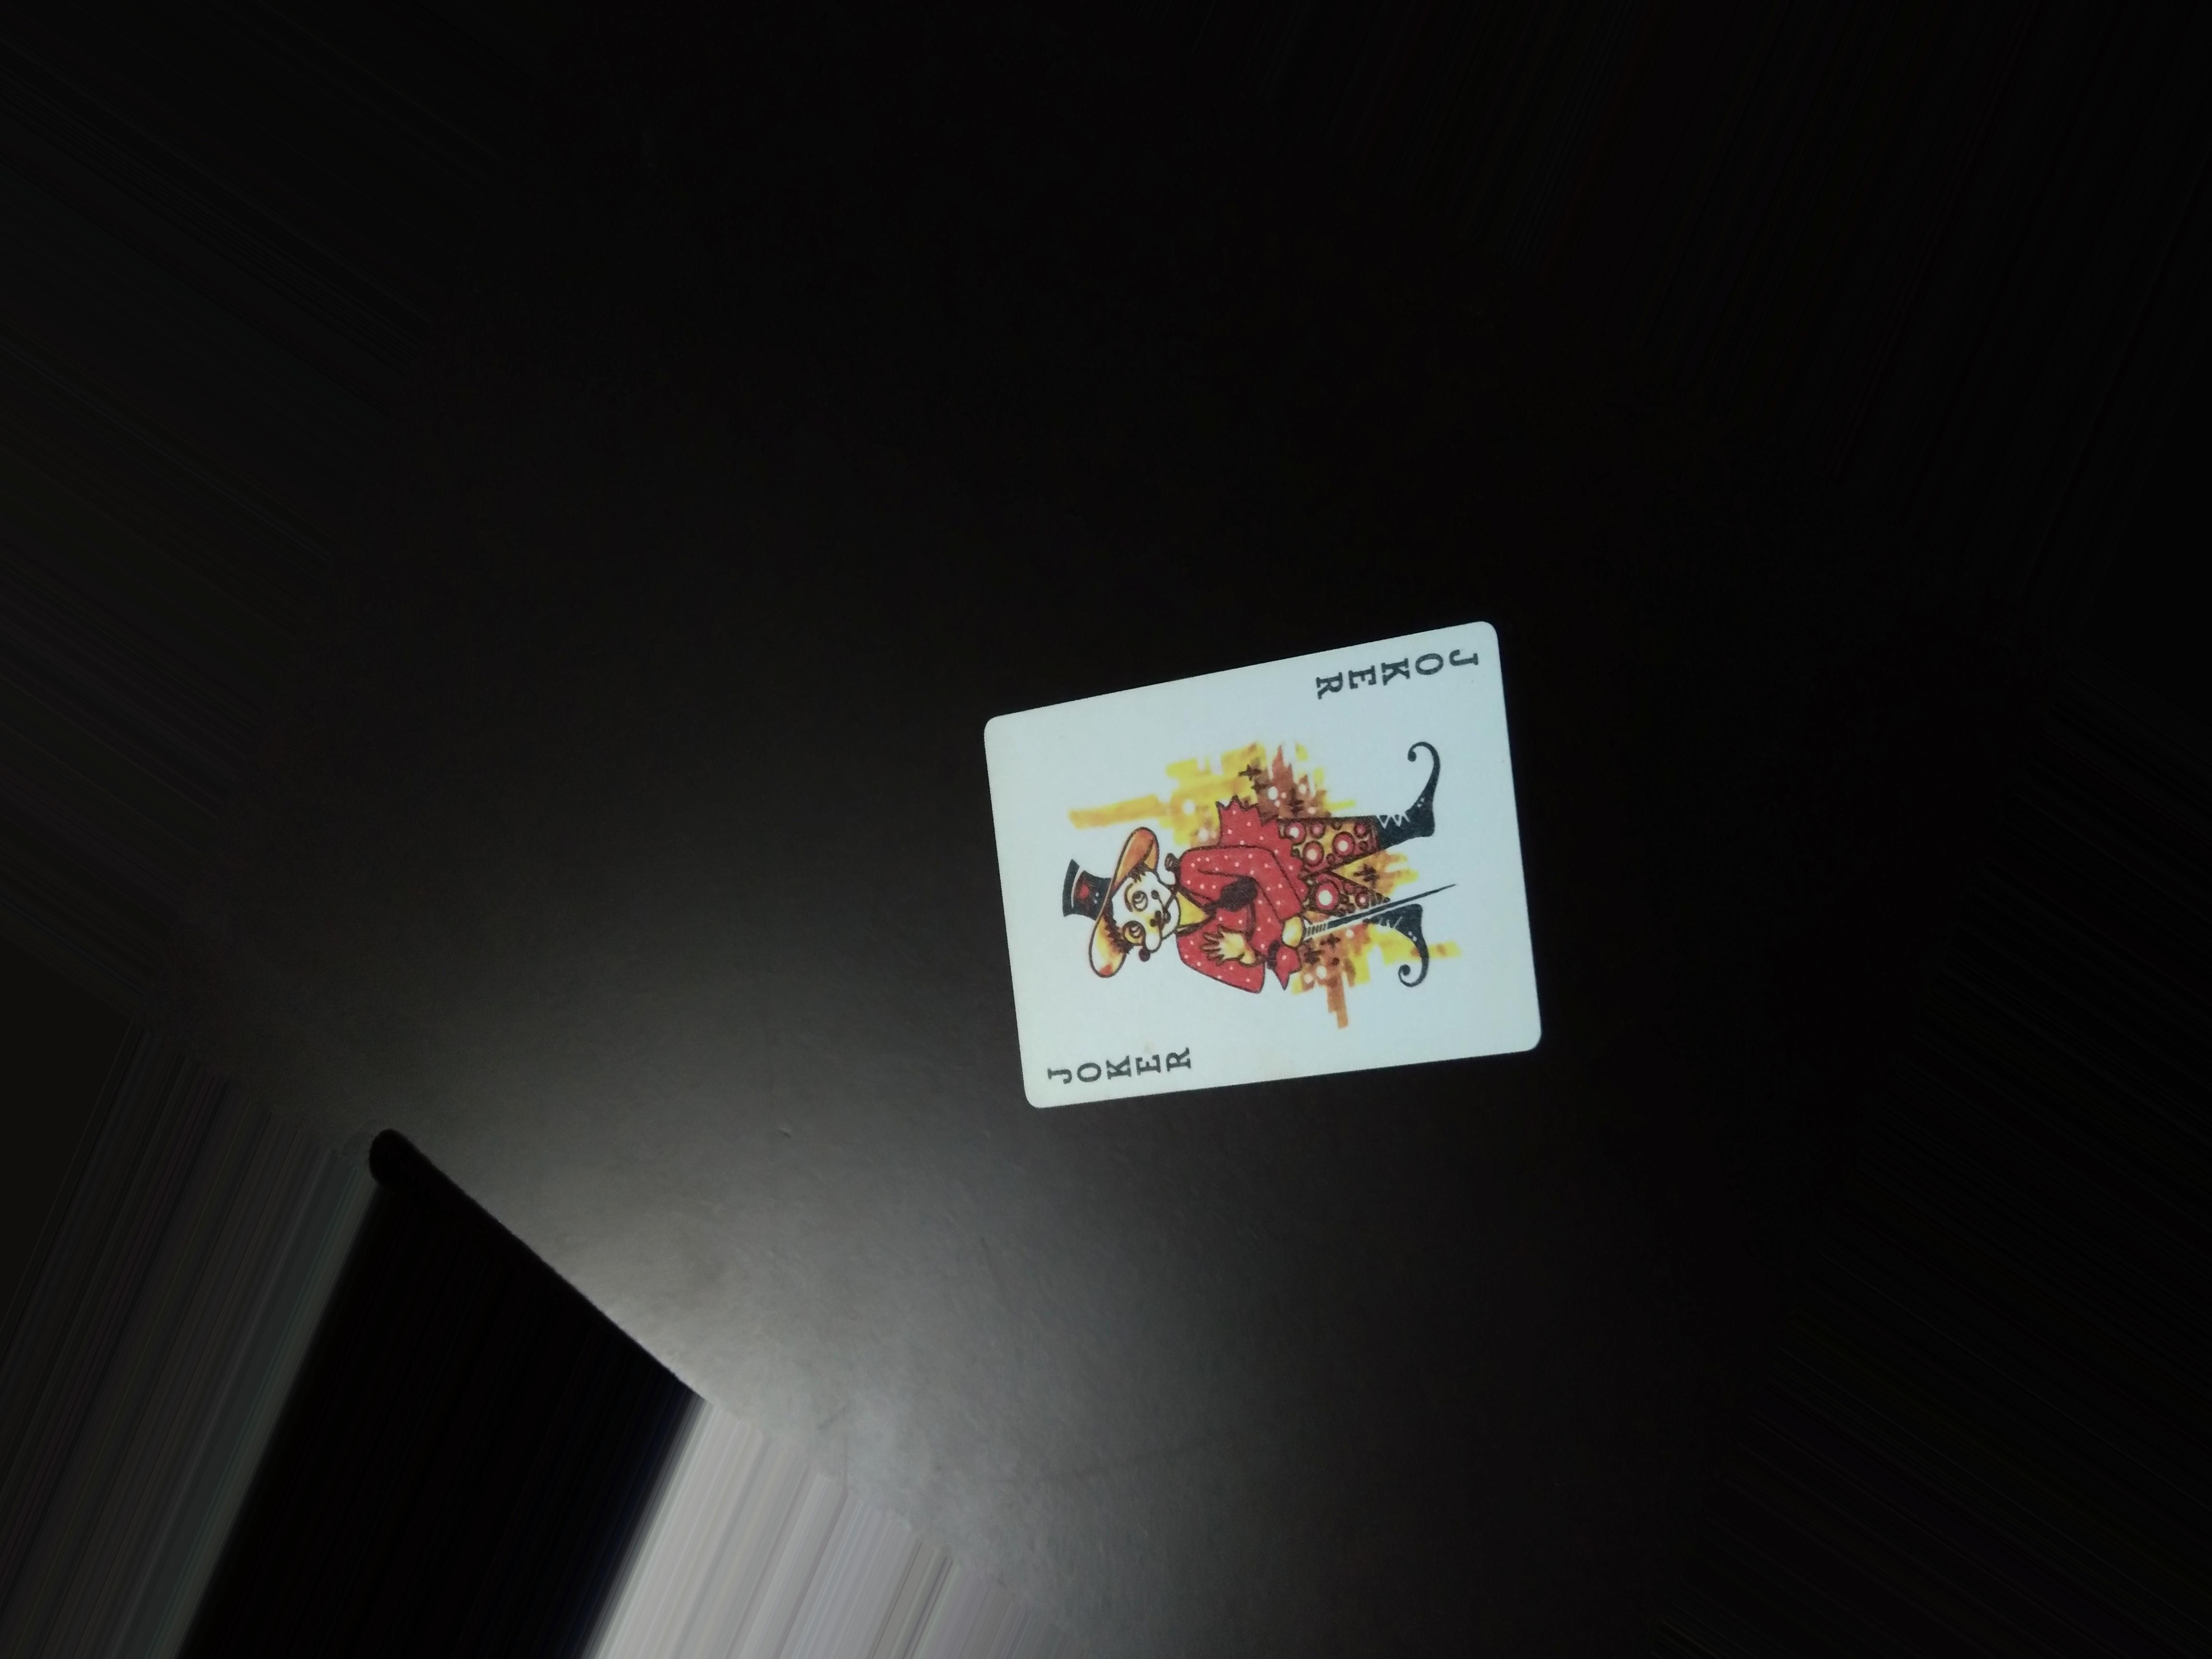JOKER: (1299, 624, 1507, 709)
